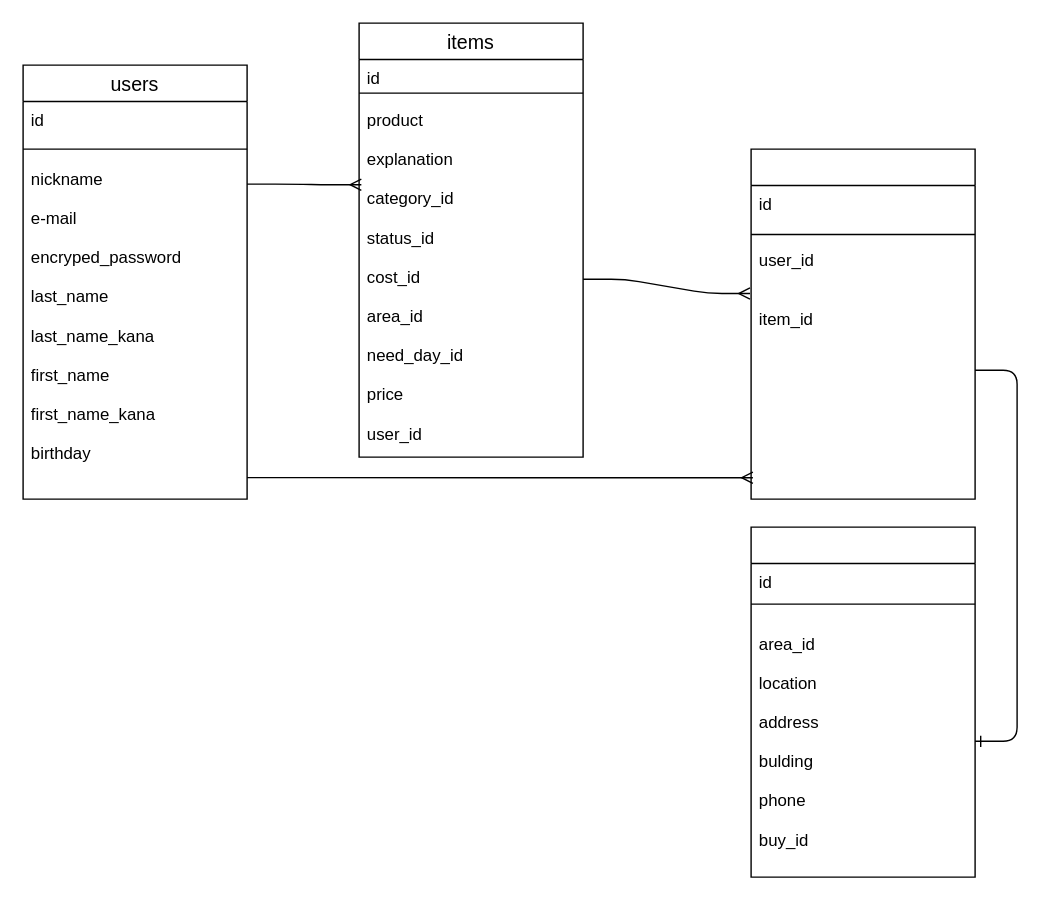
The diagram is 1040 pixels wide and 900 high, and some of its shapes have lost their labels. Here are the shapes that lost their labels. From the top down, the box of each, then its label:
(750, 148, 975, 499): buys
(750, 526, 975, 877): b_informations
